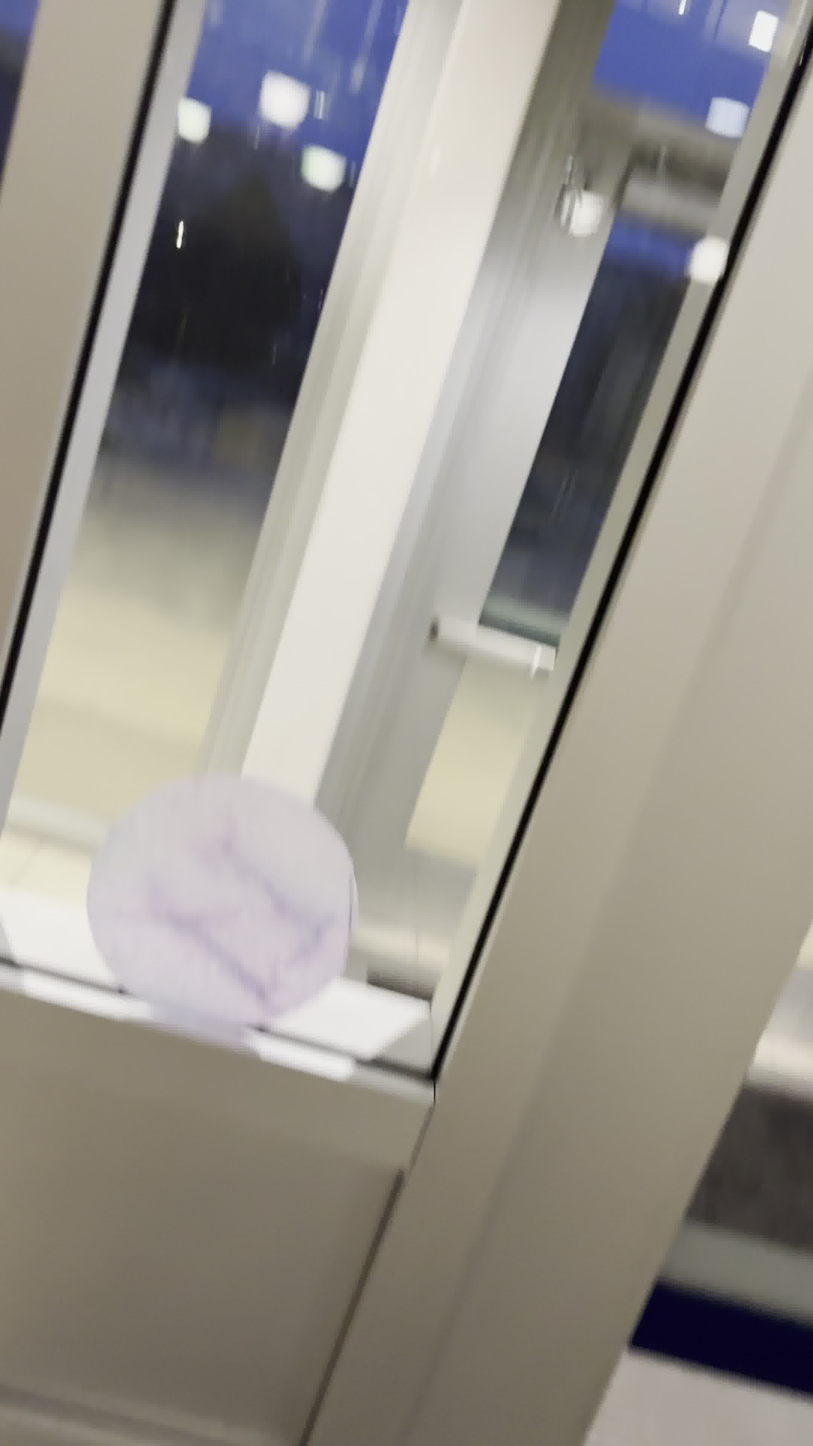Target: (82, 769, 365, 1038)
